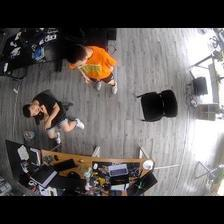normal: (21, 92, 85, 143), (63, 43, 120, 95)
